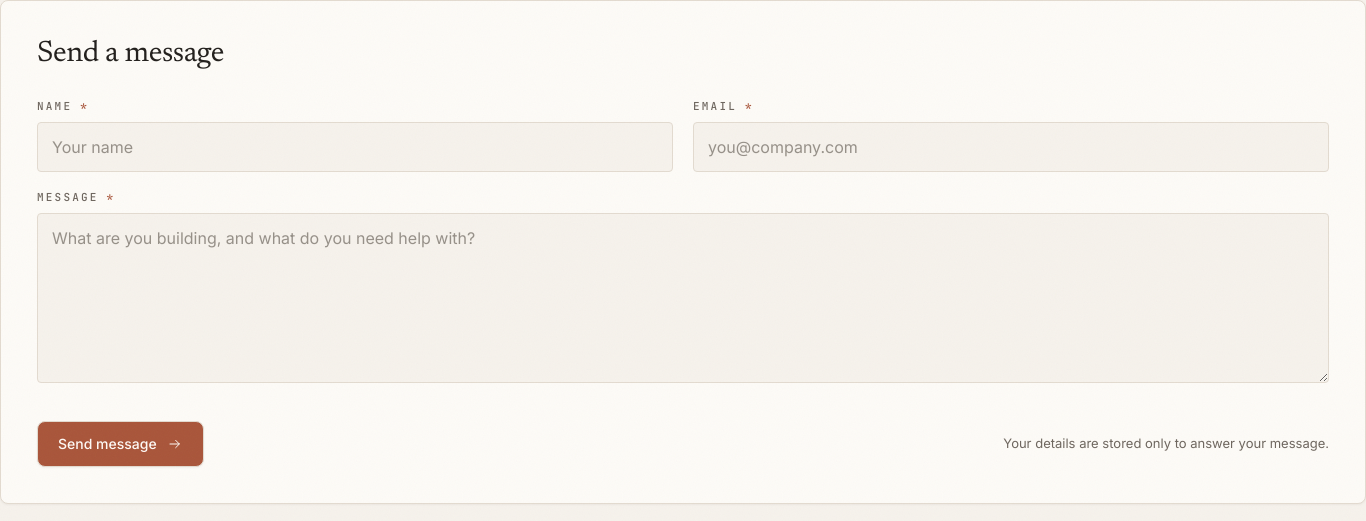
Test: <ContactForm /> › submits a valid form and shows the success state
The width and height of the screenshot is (1366, 521).
Type "Sara Ahmed" into the field labelled "Name *" at (355, 146), box [37,122,673,172]
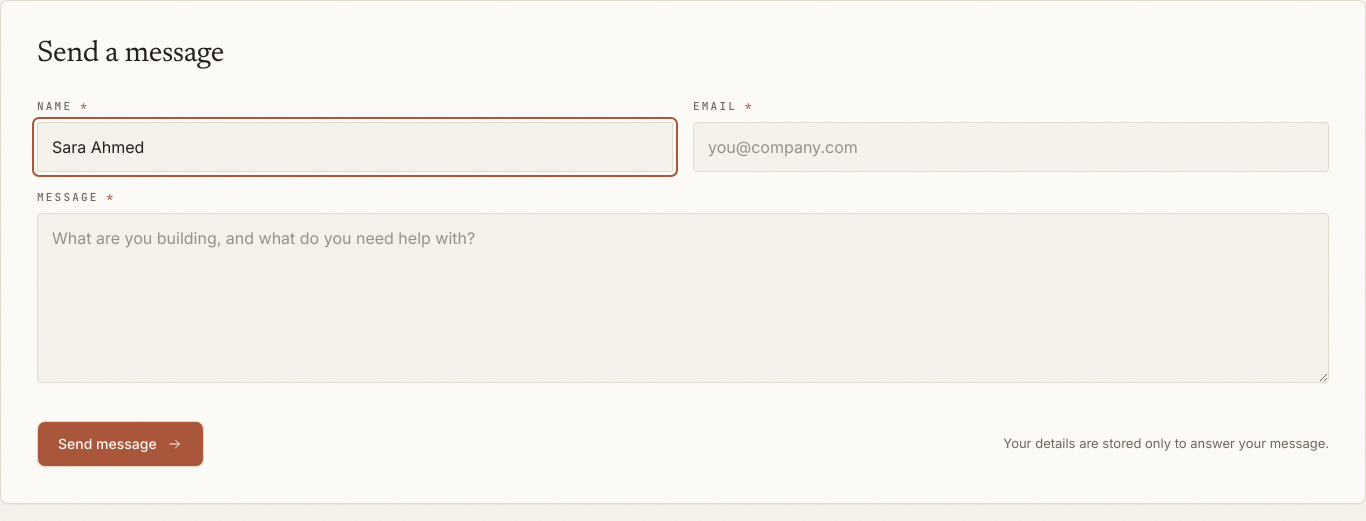
Type "sara@example.com" into the field labelled "Email *" at (1011, 146), box [693,122,1329,172]
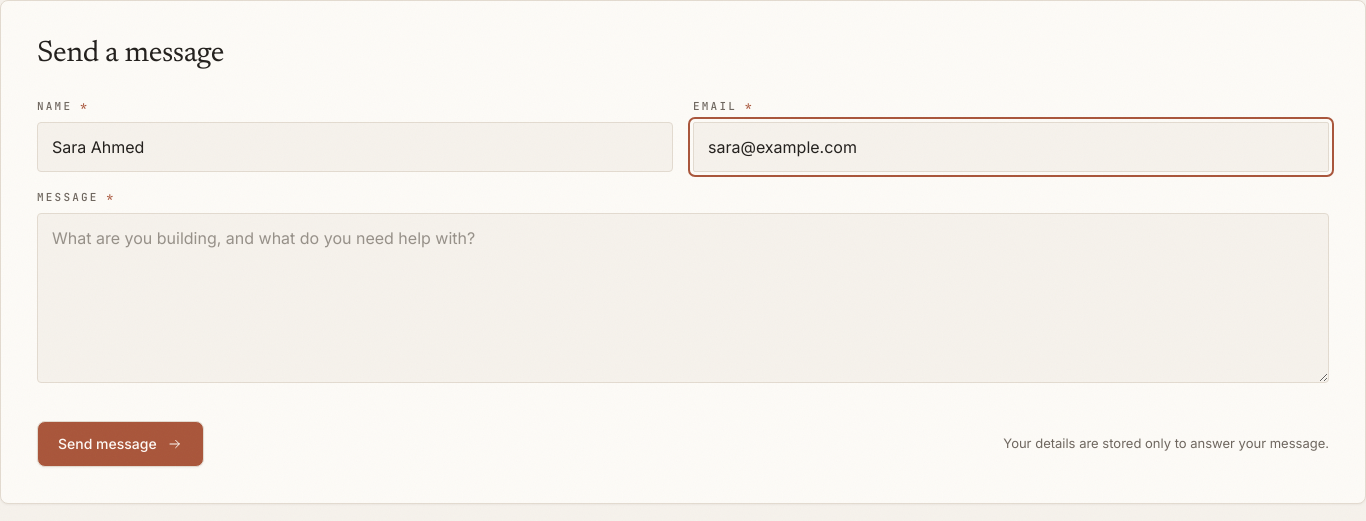
Type "Hello, I would like to talk about a full-stack project opportunity." into the text box labelled "Message *" at (683, 298), box [37,212,1329,382]
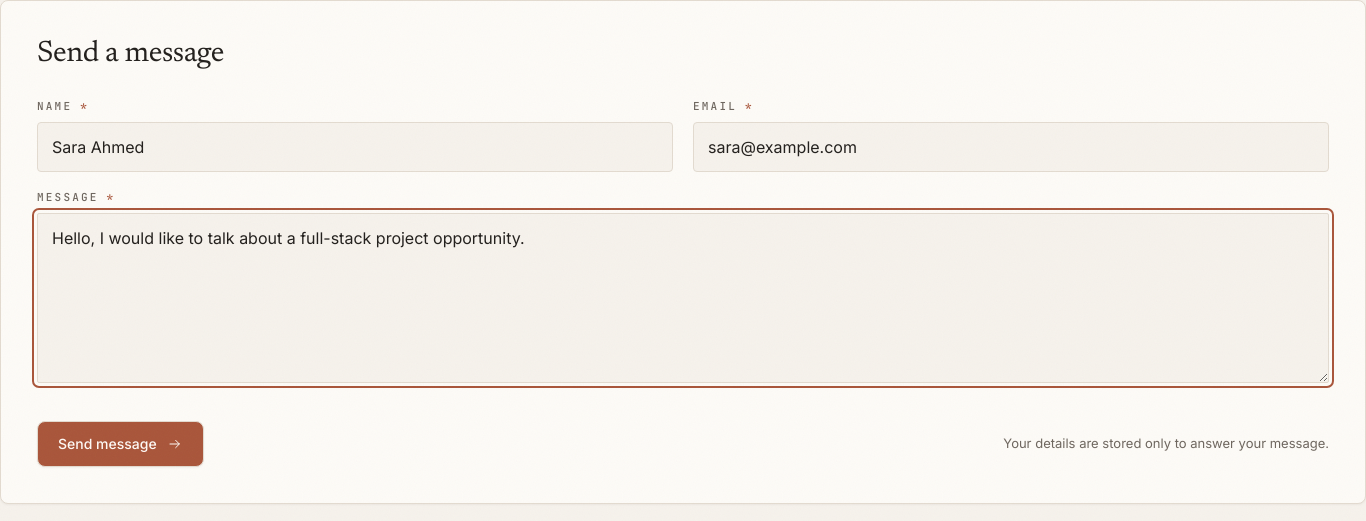
Click the button "Send message" at (120, 444), box [37,420,204,466]
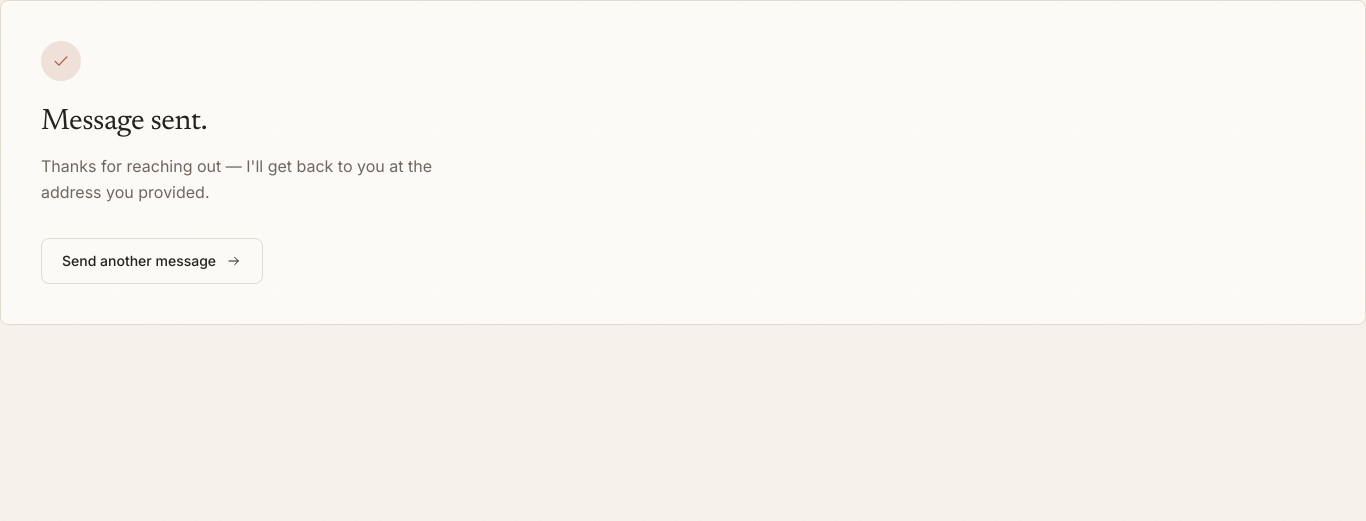
Check: the heading "Message sent." is shown, box [41,107,207,137]
